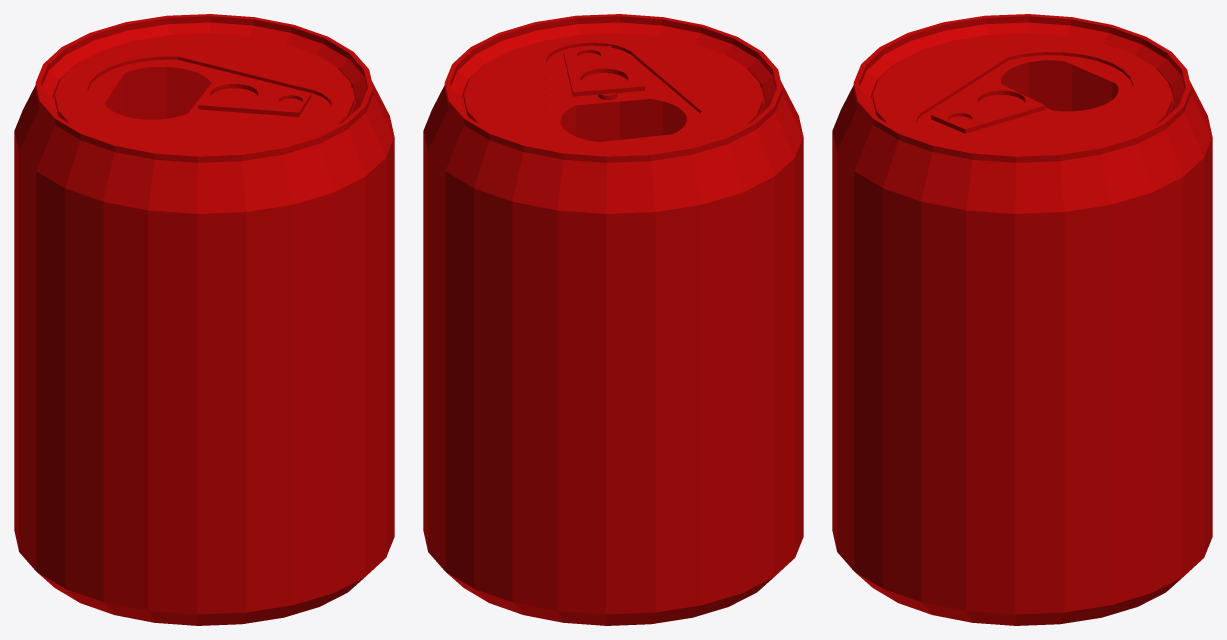
3 renders of one model, left to right at view 1: azimuth 30°, elevation 25°; view 2: azimuth 150°, elevation 25°; view 3: azimuth 270°, elevation 25°, orthographic.
Visible parts, largest first — view 1: mesh1_mesh1-geometry, mesh2_mesh2-geometry; view 2: mesh1_mesh1-geometry, mesh2_mesh2-geometry; view 3: mesh1_mesh1-geometry, mesh2_mesh2-geometry.
Part boxes in pixels (x1,y1,x2,y2): mesh1_mesh1-geometry: (14, 14, 394, 625); mesh2_mesh2-geometry: (198, 76, 311, 116); mesh1_mesh1-geometry: (423, 14, 803, 625); mesh2_mesh2-geometry: (563, 46, 644, 96); mesh1_mesh1-geometry: (832, 14, 1212, 625); mesh2_mesh2-geometry: (931, 82, 1045, 133).
Bounding box in the file's own units: 0.5093 × 0.6936 × 0.5093.
